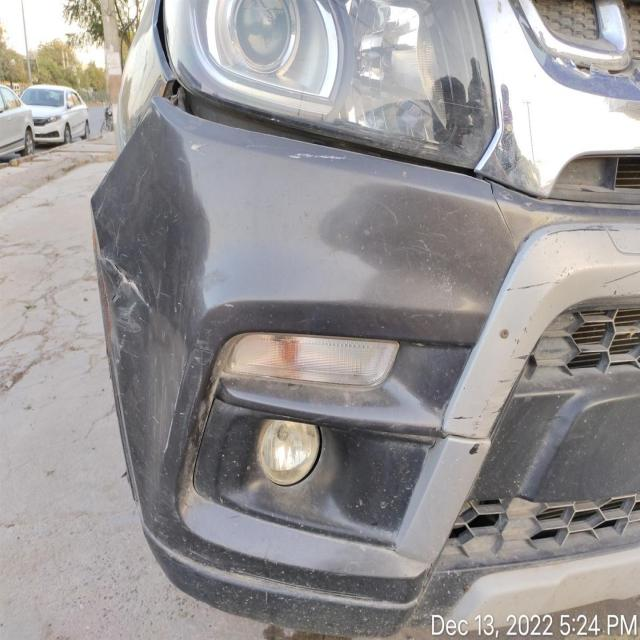damage: (161, 75, 473, 182), (481, 175, 516, 242)
